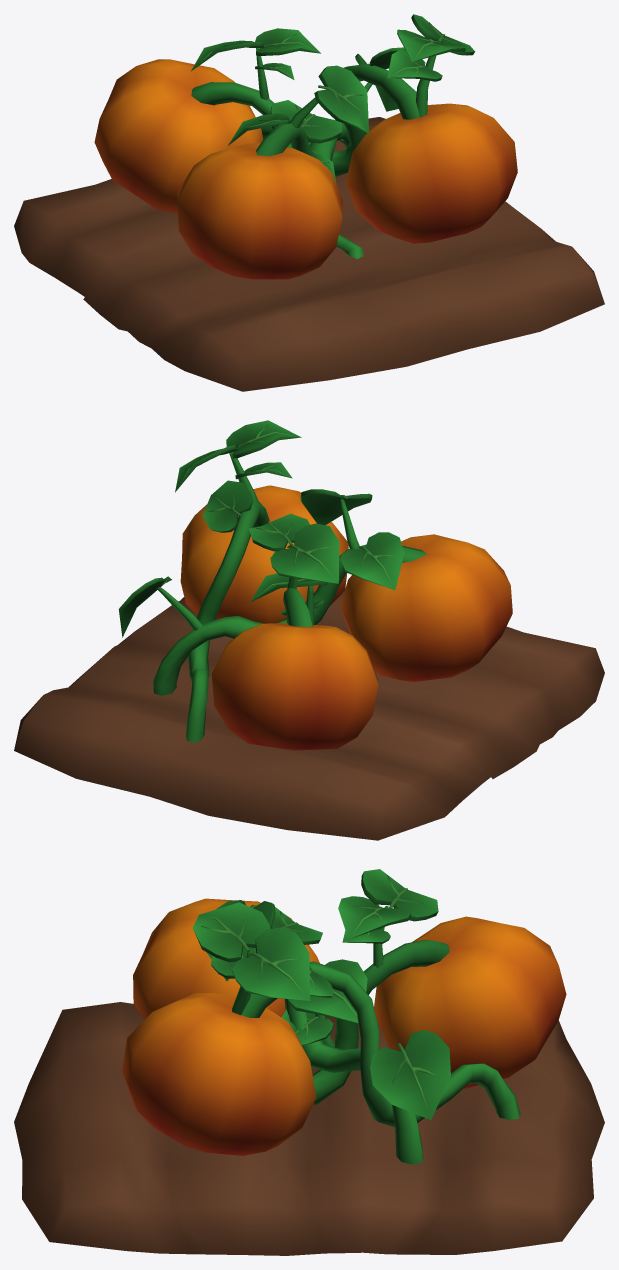
File: SM_PlantSoil_Pumpkin_Lv4.fbx
The picture shows the model from 3 angles, top to bottom: view 1: azimuth 30°, elevation 25°; view 2: azimuth 150°, elevation 25°; view 3: azimuth 270°, elevation 25°; orthographic projection. The views are drawn at different scales.
Parts seen in each view (by area): view 1: SM_PlantSoil_Pumpkin_Lv4; view 2: SM_PlantSoil_Pumpkin_Lv4; view 3: SM_PlantSoil_Pumpkin_Lv4.
Part boxes in pixels (bbox=[...]): SM_PlantSoil_Pumpkin_Lv4: bbox=[14, 14, 604, 391]; SM_PlantSoil_Pumpkin_Lv4: bbox=[14, 420, 604, 840]; SM_PlantSoil_Pumpkin_Lv4: bbox=[14, 869, 604, 1255].
Size of the model in its own units: 96.14 by 53.83 by 103.
